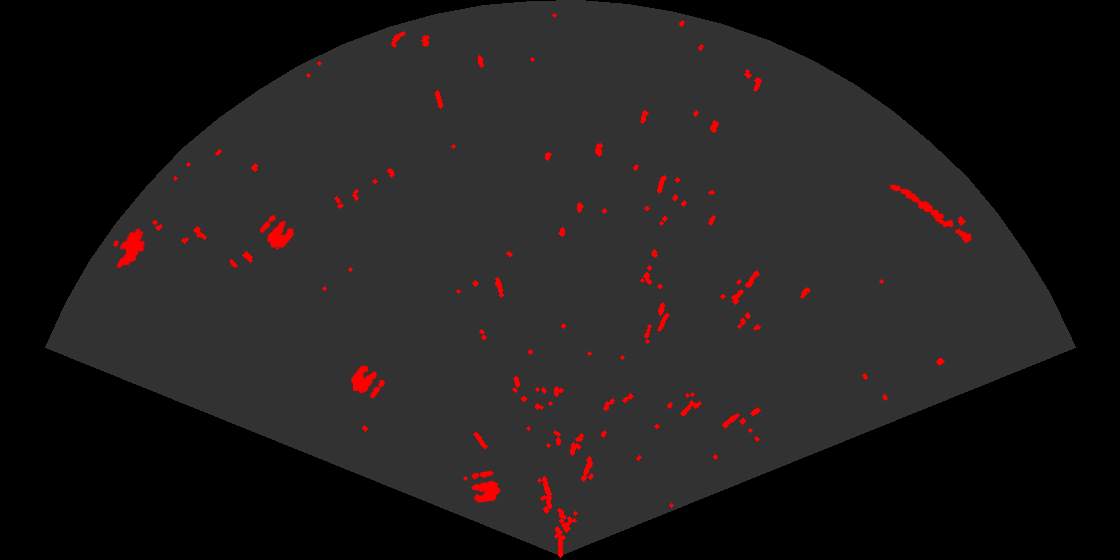AUV: (115, 227, 147, 270)
ball: (349, 364, 387, 400), (258, 214, 296, 249), (470, 469, 502, 504)
chain: (888, 183, 973, 245)
